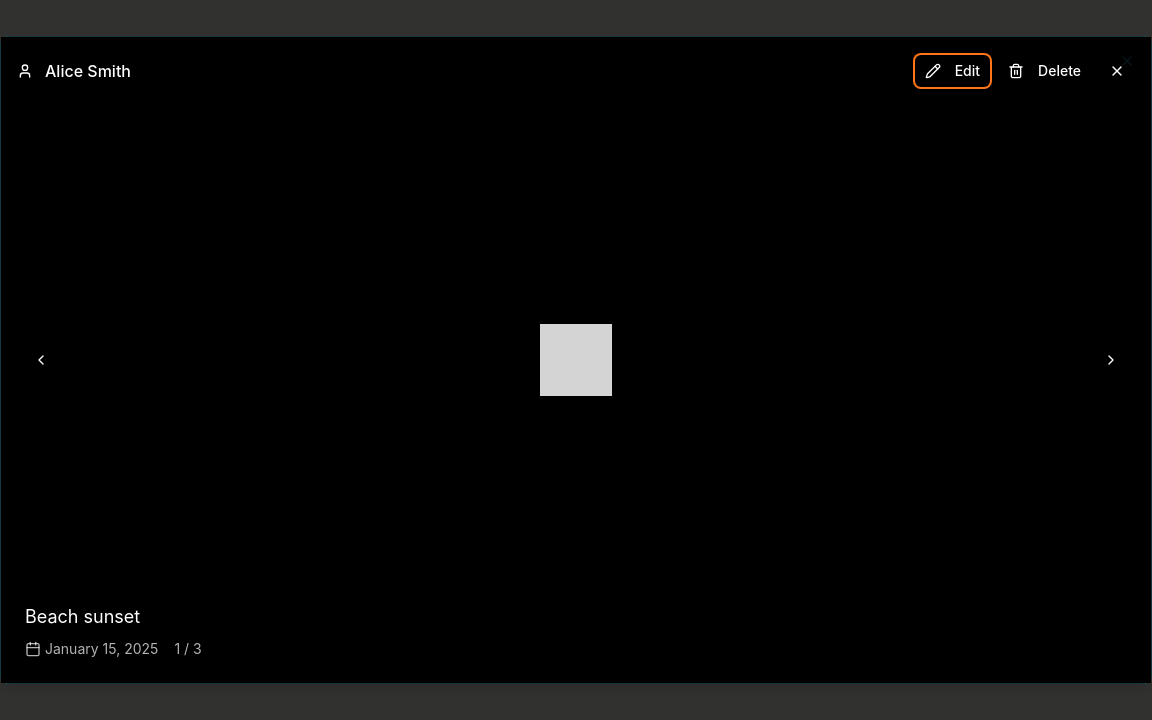
Test case: PhotoLightbox › Navigation › should loop to end when pressing previous on first photo
Step 1. Click the button named "Previous photo" → (41, 360), box x1=17 y1=336 x2=65 y2=384
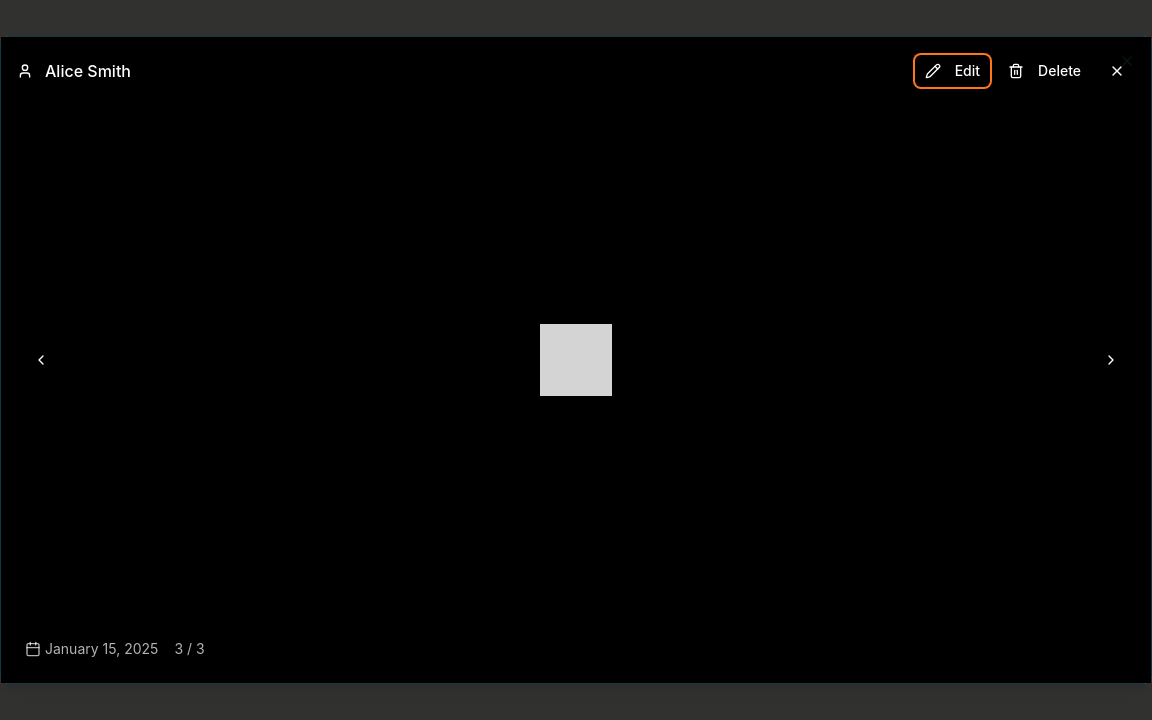
Expected: the text "3 / 3" is shown, x1=174 y1=639 x2=205 y2=659
